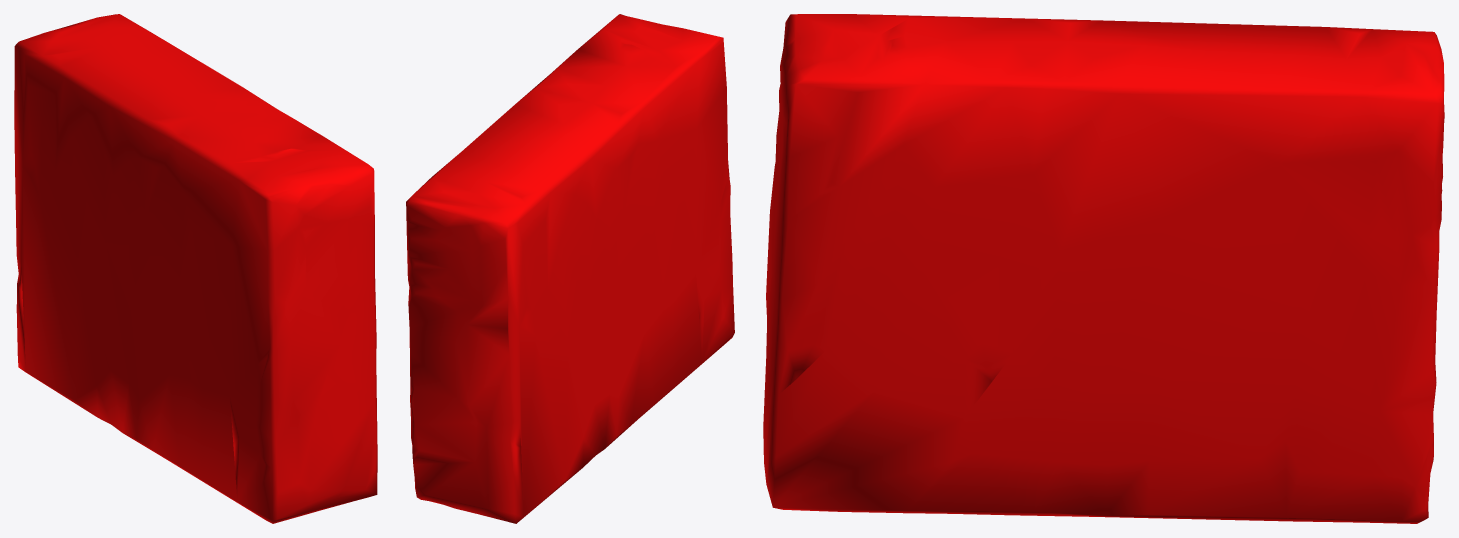
Rendered from rectangularCube2_0.dae.
3 views of the same model, side by side, from view 1: azimuth 30°, elevation 25°; view 2: azimuth 150°, elevation 25°; view 3: azimuth 270°, elevation 25° (orthographic). The views are drawn at different scales.
Parts seen in each view (by area): view 1: BroccoliSoup_800_tex; view 2: BroccoliSoup_800_tex; view 3: BroccoliSoup_800_tex.
Part boxes in pixels (left/top/right/bottom): BroccoliSoup_800_tex: left=14, top=14, right=377, bottom=523; BroccoliSoup_800_tex: left=406, top=14, right=734, bottom=523; BroccoliSoup_800_tex: left=763, top=14, right=1444, bottom=523.
Size of the model in its own units: 0.0168 by 0.0597 by 0.045.
